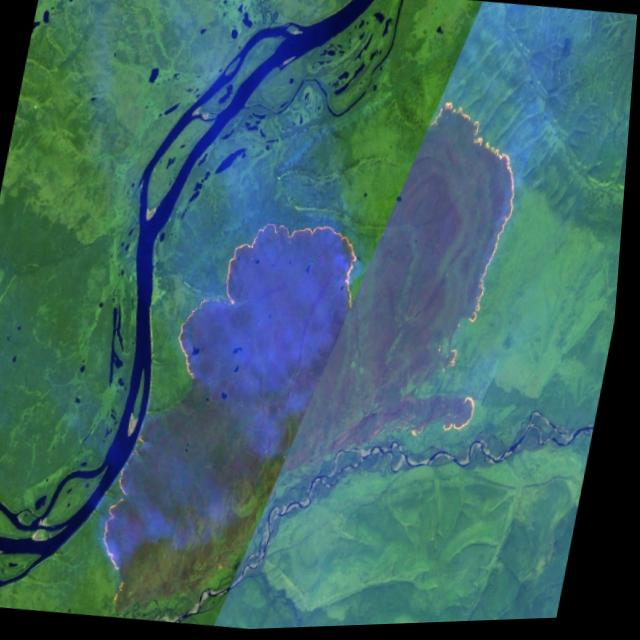fire: (361, 96, 539, 453), (171, 205, 377, 401), (88, 421, 165, 620)
